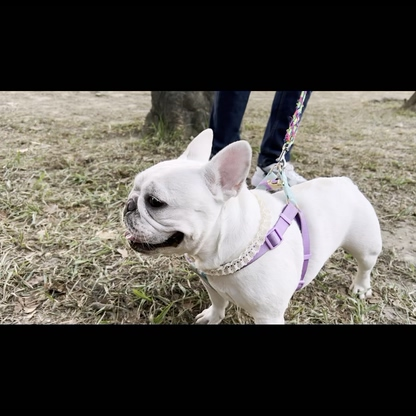bulldog: (119, 126, 385, 322)
